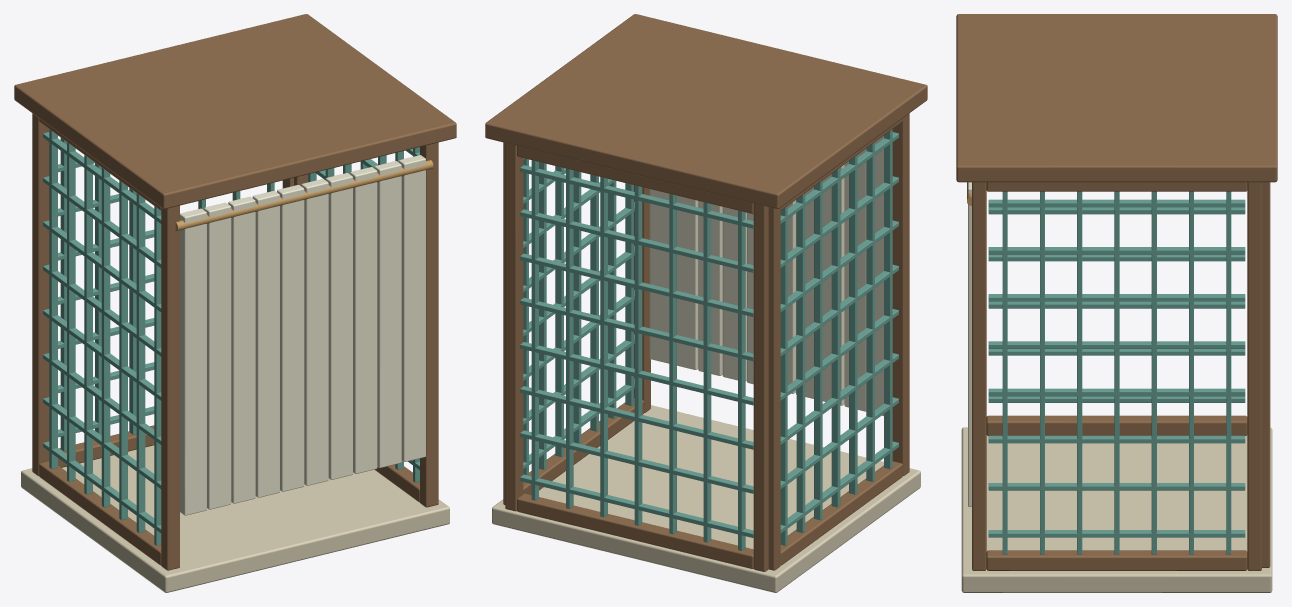
File: fantasy-bathhouse-and-thermal-sanctuary-fantasy-bathho-0cad3b0e__29458.glb
The picture shows the model from 3 angles, left to right: view 1: azimuth 30°, elevation 25°; view 2: azimuth 150°, elevation 25°; view 3: azimuth 270°, elevation 25°; orthographic projection. The views are drawn at different scales.
Parts seen in each view (by area): view 1: fantasy-bathhouse-and-thermal-sanctuary-changing-cubicle; view 2: fantasy-bathhouse-and-thermal-sanctuary-changing-cubicle; view 3: fantasy-bathhouse-and-thermal-sanctuary-changing-cubicle.
Boxes of the visible parts, <box> form: fantasy-bathhouse-and-thermal-sanctuary-changing-cubicle: <box>14,14,456,592</box>; fantasy-bathhouse-and-thermal-sanctuary-changing-cubicle: <box>485,14,927,592</box>; fantasy-bathhouse-and-thermal-sanctuary-changing-cubicle: <box>956,14,1277,592</box>.
Bounding box in the file's own units: 1.75 × 2.29 × 1.55.
